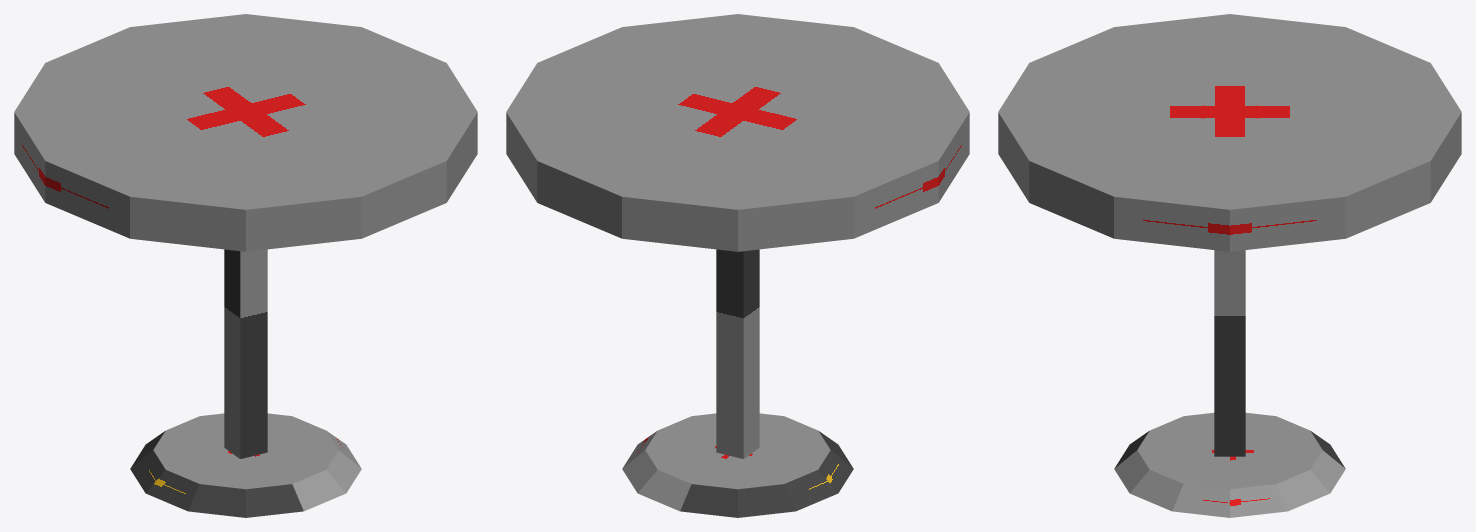
Rendered from table_tall.fbx.
The picture shows the model from 3 angles, left to right: view 1: azimuth 30°, elevation 25°; view 2: azimuth 150°, elevation 25°; view 3: azimuth 270°, elevation 25°; orthographic projection.
Visible parts, largest first — view 1: table tall; view 2: table tall; view 3: table tall.
Boxes of the visible parts, x1=… form: table tall: x1=14, y1=14, x2=477, y2=517; table tall: x1=506, y1=14, x2=969, y2=517; table tall: x1=998, y1=14, x2=1461, y2=517.
Size of the model in its own units: 100 by 85 by 100.
